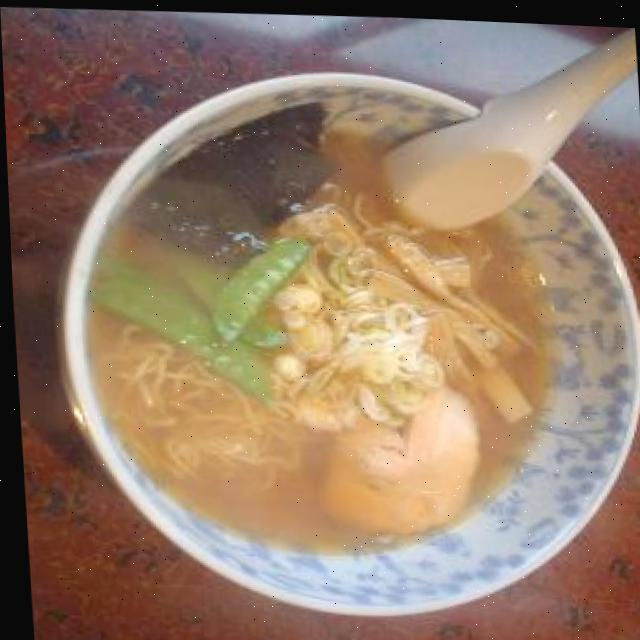面条主食: (30, 26, 640, 629)
